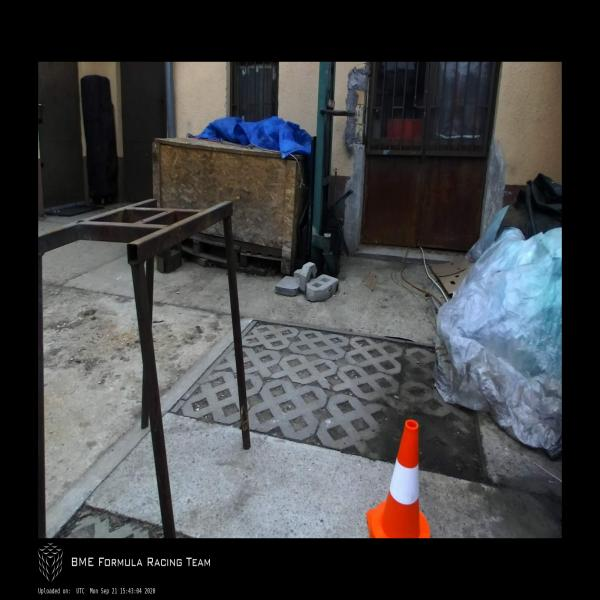orange_cone: (366, 420, 430, 538)
